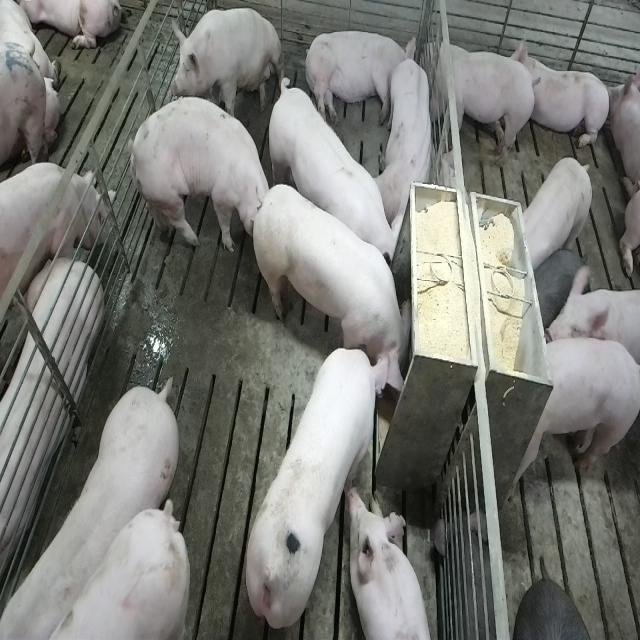Feeding: (243, 342, 395, 630), (257, 174, 419, 387)
Lateral_lying: (0, 253, 101, 611), (303, 28, 416, 128)
Sitting: (170, 8, 284, 125)
Standing: (5, 374, 185, 634), (264, 74, 398, 271), (124, 94, 266, 262), (505, 338, 638, 504), (420, 32, 537, 170), (0, 166, 107, 310), (546, 264, 640, 418), (515, 155, 594, 274)
Sternal_lying: (348, 484, 434, 640), (515, 34, 612, 154), (376, 53, 437, 227)
